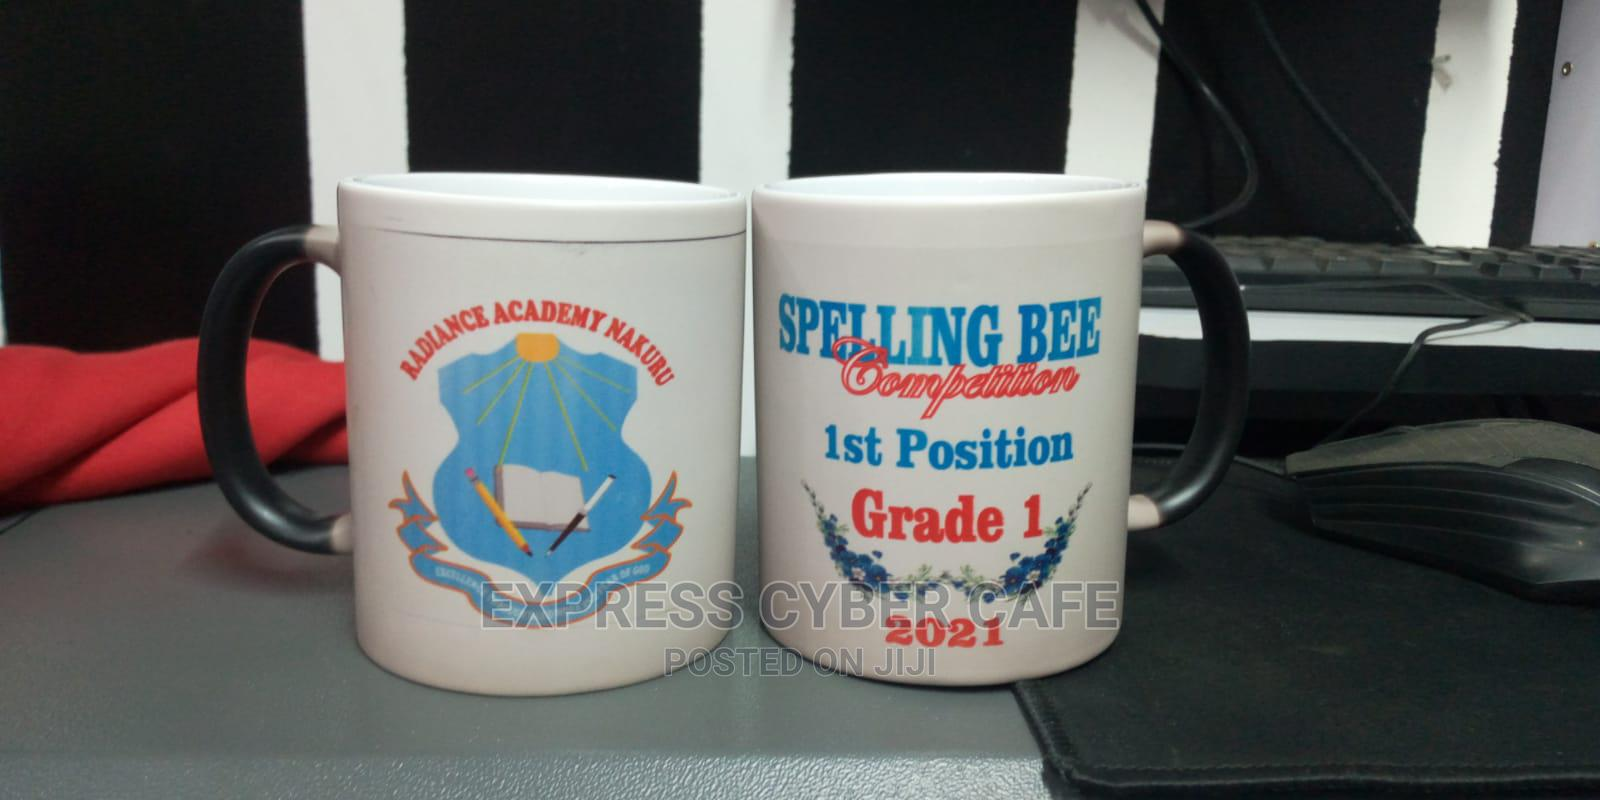cup: (187, 162, 749, 703), (756, 155, 1256, 679)
